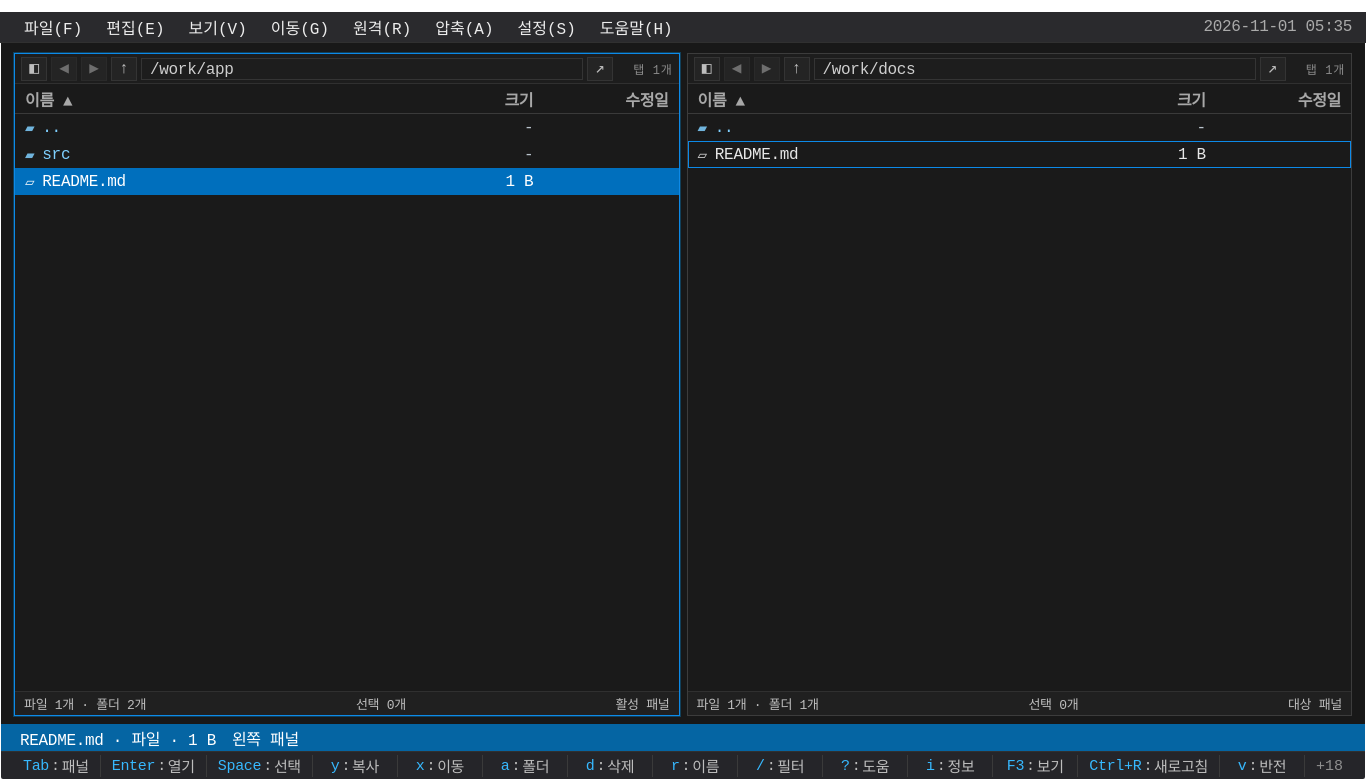
Test: CommanderShell folder tree (FR-42) › shows each panel tree independently from its path bar button and t r, and saves visibility
Click the button named "폴더 트리" at (706, 68), box [694, 56, 720, 80]
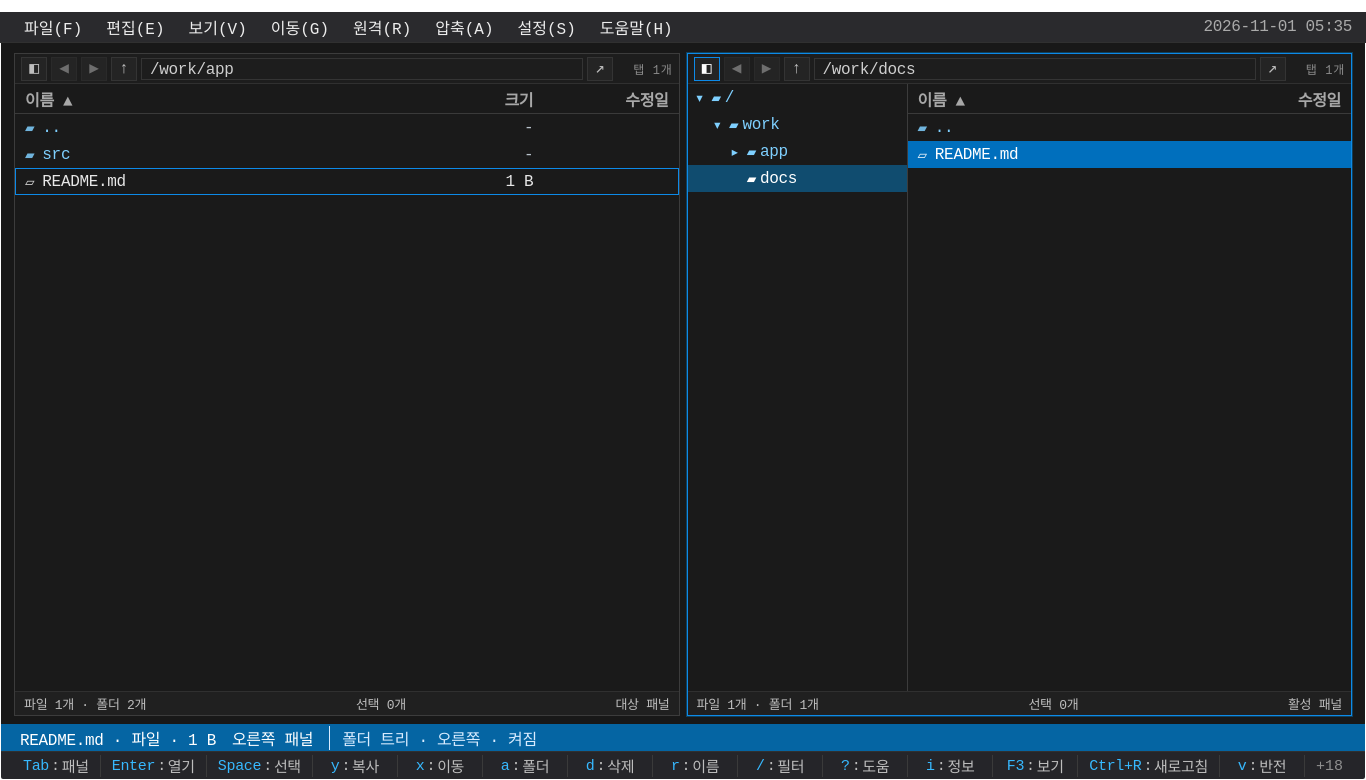
Result: the element with class "folder-tree" is shown at [688, 84, 908, 691]
Result: the text "폴더 트리 · 오른쪽 · 켜짐" is shown at [329, 726, 1346, 750]
Press the mouse on the element named "left panel /work/app" at (347, 384), box [14, 53, 680, 716]
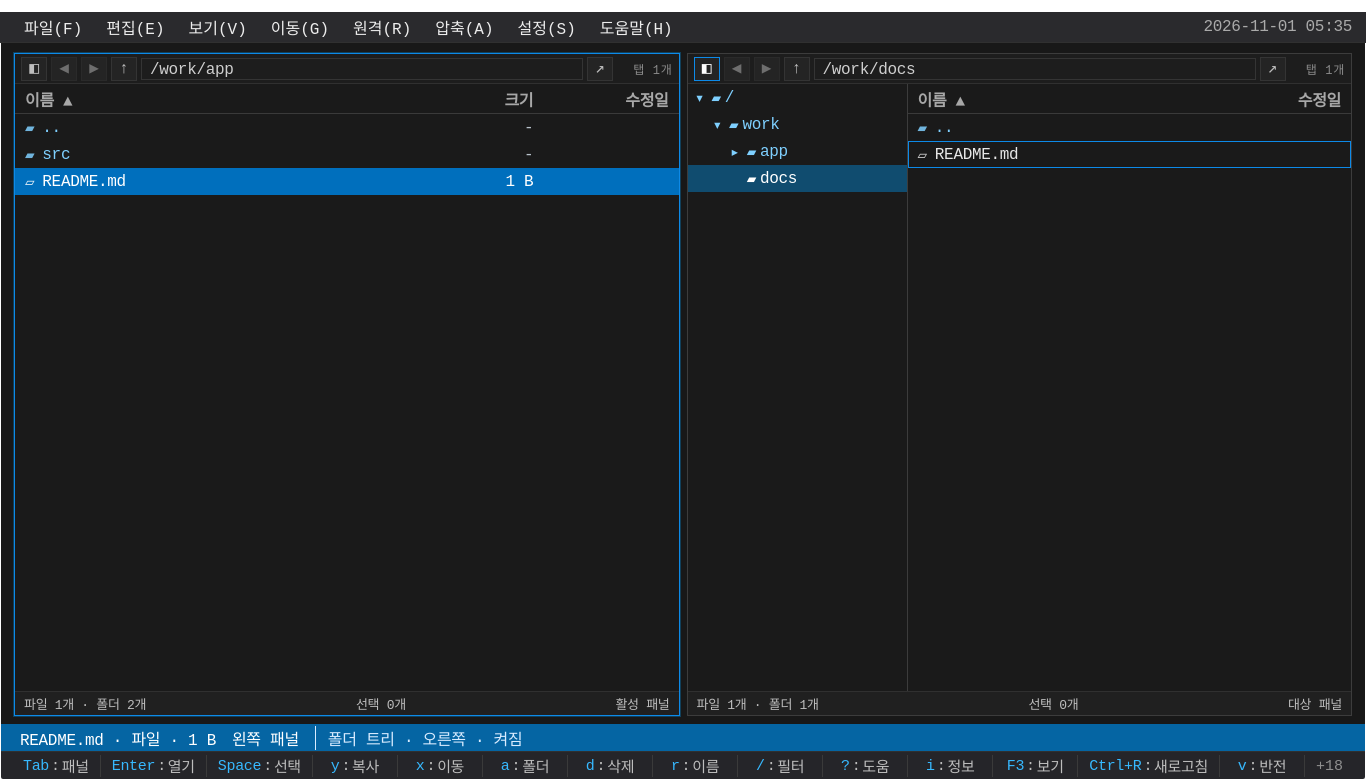
Type keys "tr"
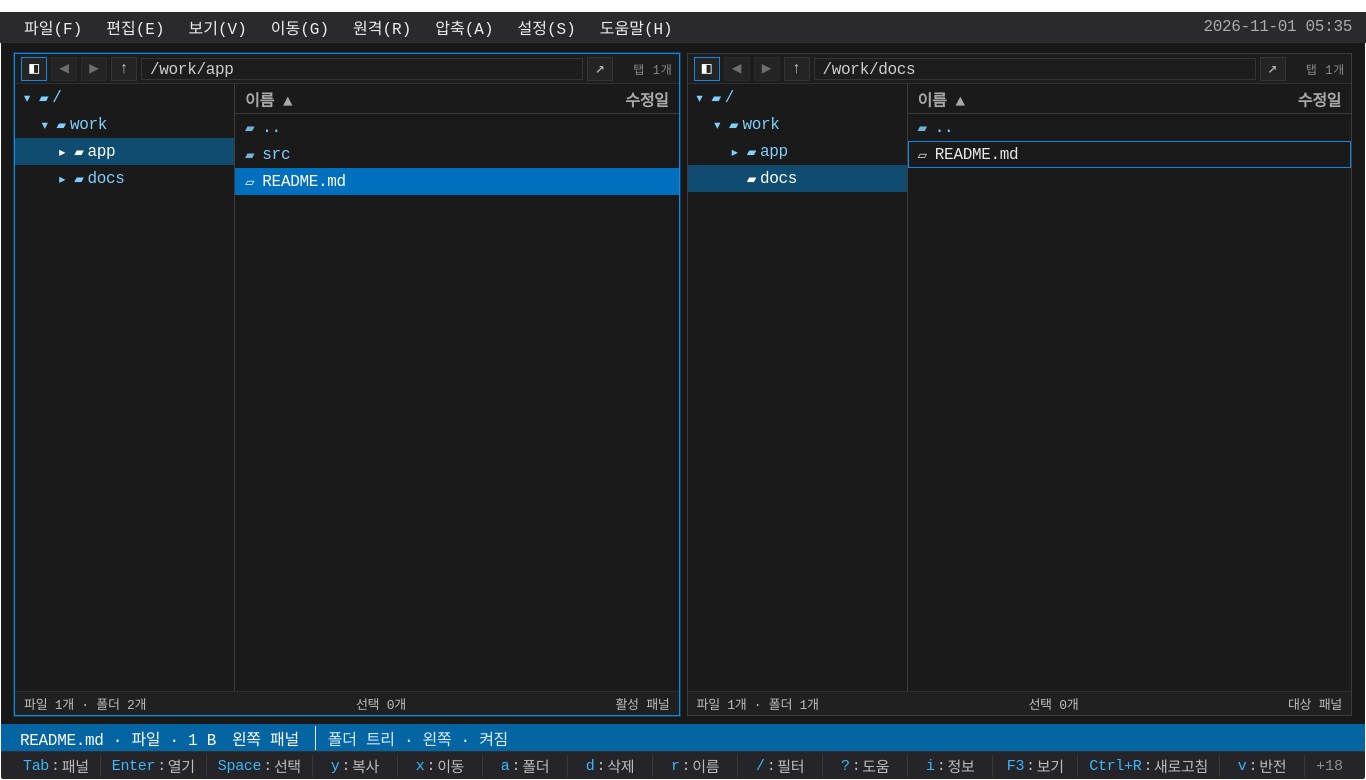
Result: the 1st element with class "folder-tree" is shown at [15, 84, 235, 691]
Type keys "tr"
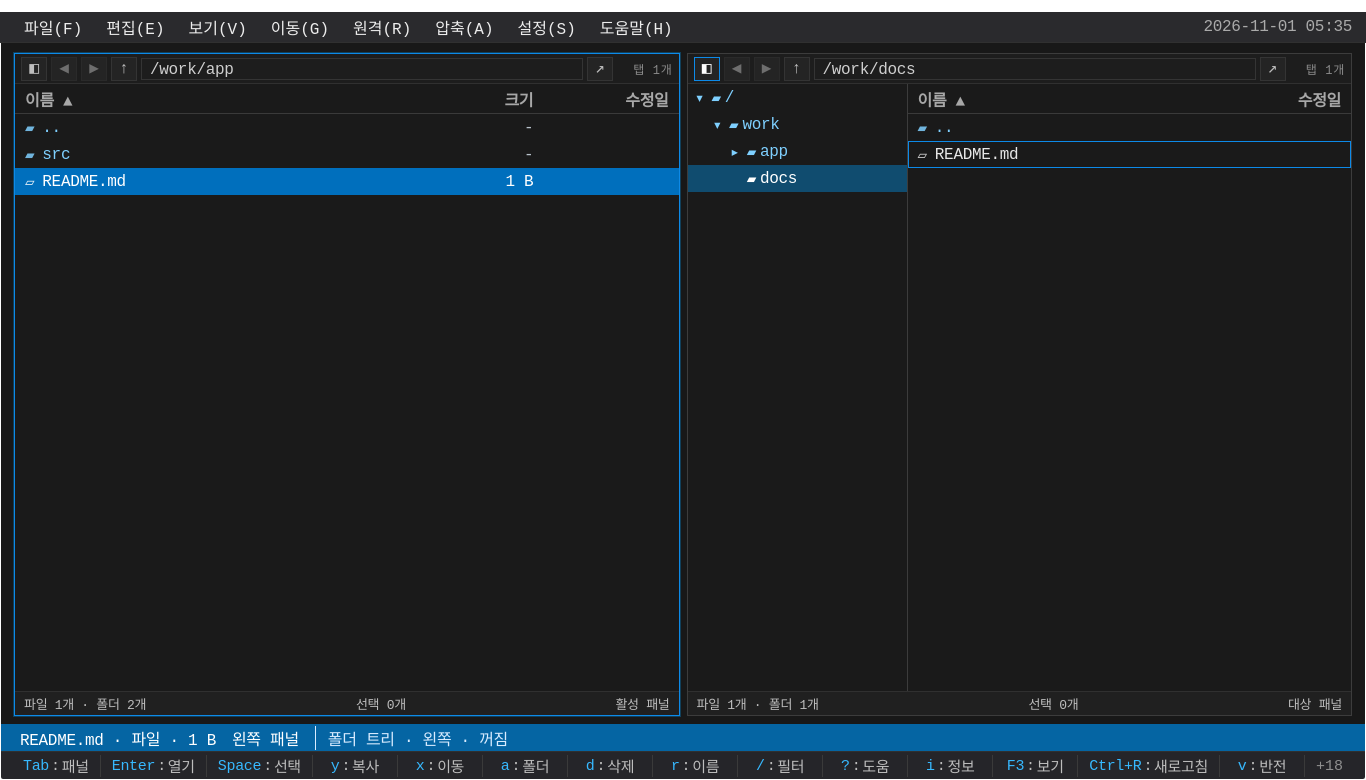
Result: the element with class "folder-tree" is shown at [688, 84, 908, 691]
Result: the text "▾ ▰ / ▾ ▰ work ▸ ▰ app ▸ ▰ docs" is gone
